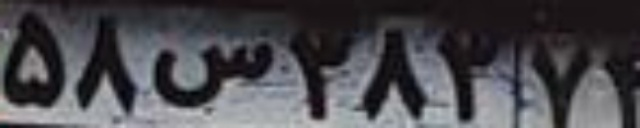3: (438, 29, 504, 124), (285, 29, 350, 119)
4: (600, 51, 639, 126)
5: (2, 11, 63, 109)
7: (530, 42, 595, 126)
8: (360, 28, 426, 121), (78, 12, 137, 116)
sin: (152, 41, 276, 108)
